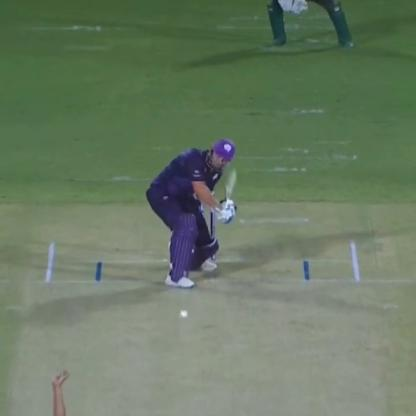ball: (177, 308, 192, 321)
bat: (219, 170, 245, 204)
pitch: (12, 238, 390, 416)
